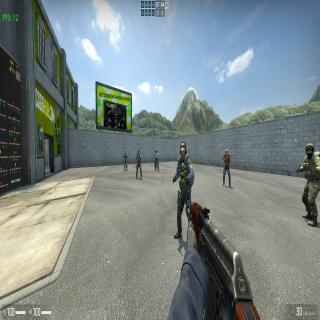CT-Body: (173, 142, 197, 242), (296, 143, 320, 228), (136, 148, 142, 180), (123, 150, 128, 171)
CT-Head: (306, 142, 314, 160), (180, 142, 187, 162), (138, 148, 140, 155), (125, 150, 126, 154)
T-Body: (222, 148, 232, 189), (155, 150, 159, 172)
T-Head: (225, 148, 228, 156), (156, 150, 158, 154), (155, 151, 156, 153)
